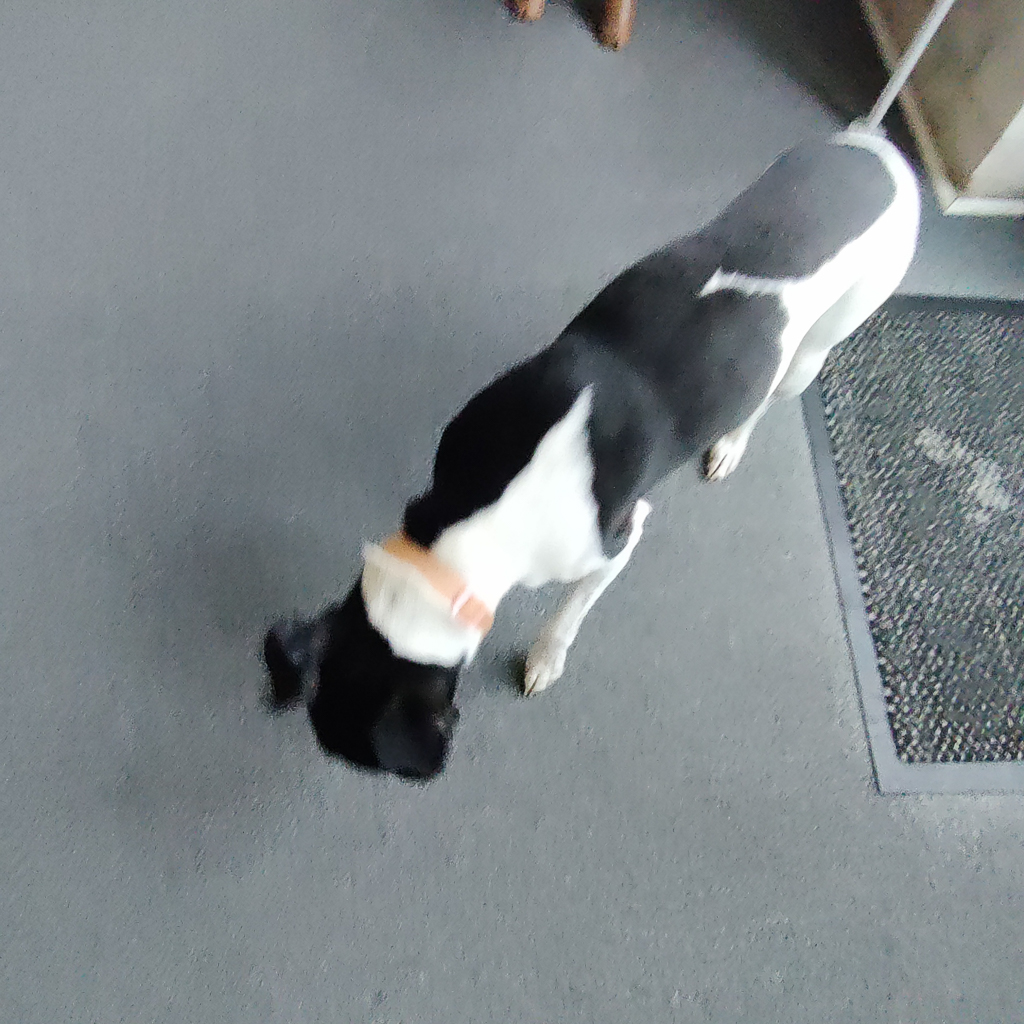Cattle: (478, 0, 649, 63)
Dog: (214, 117, 942, 795)
